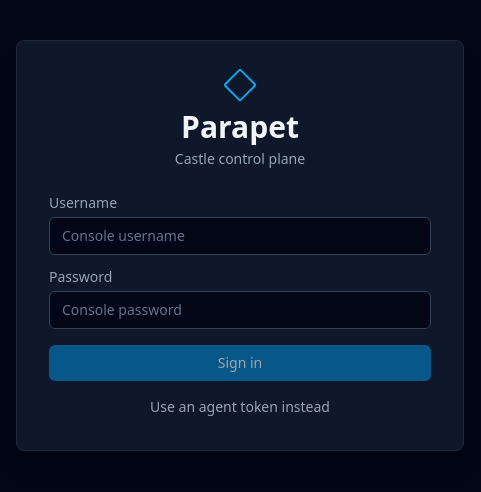
Test: LoginPage shared surface › non-auth connect failures surface an unreachable message
Type "operator" into the field with test id "login-username" at (240, 236), box [49,216,431,254]
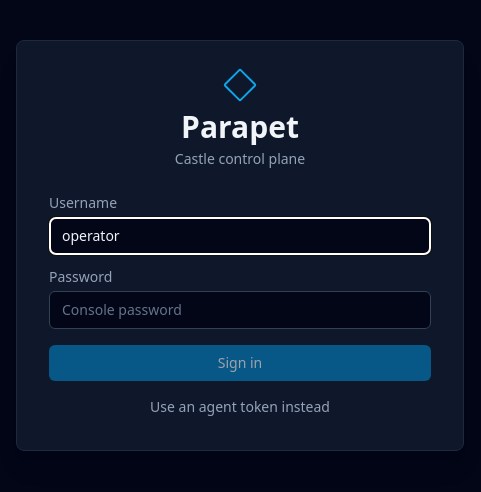
Type "op-password" into the password field with test id "login-password" at (240, 310), box [49,290,431,328]
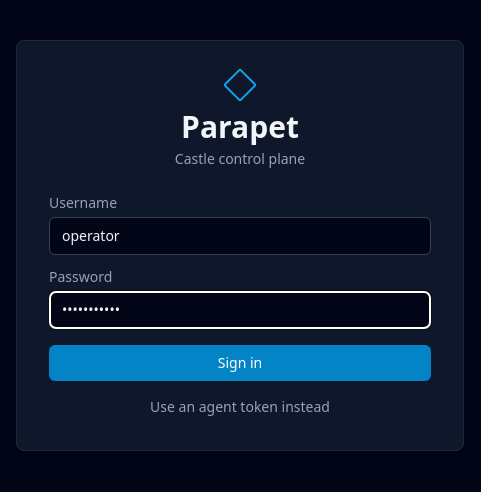
Click the button with test id "login-submit" at (240, 362), box [49,344,431,380]
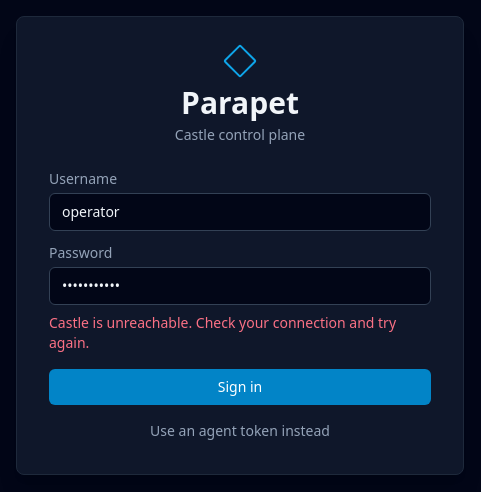
Check: the message with test id "login-error" shows "Castle is unreachable", box [49,312,396,352]
